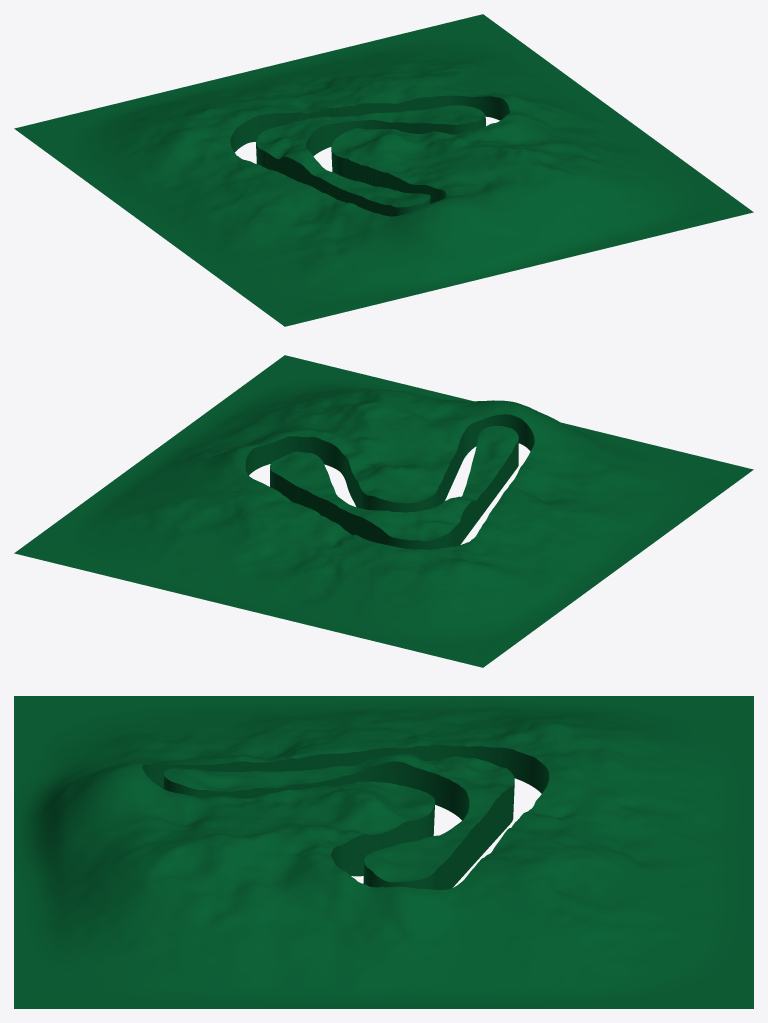
File: HyperLand.1.glb
The picture shows the model from 3 angles, top to bottom: view 1: azimuth 30°, elevation 25°; view 2: azimuth 150°, elevation 25°; view 3: azimuth 270°, elevation 25°; orthographic projection. The views are drawn at different scales.
Parts seen in each view (by area): view 1: Land; view 2: Land; view 3: Land.
Boxes of the visible parts, x1,y1,x2,y2 form: Land: (14,14,753,326); Land: (14,355,753,667); Land: (14,696,753,1008).
Size of the model in its own units: 1000 by 98.32 by 1000.
